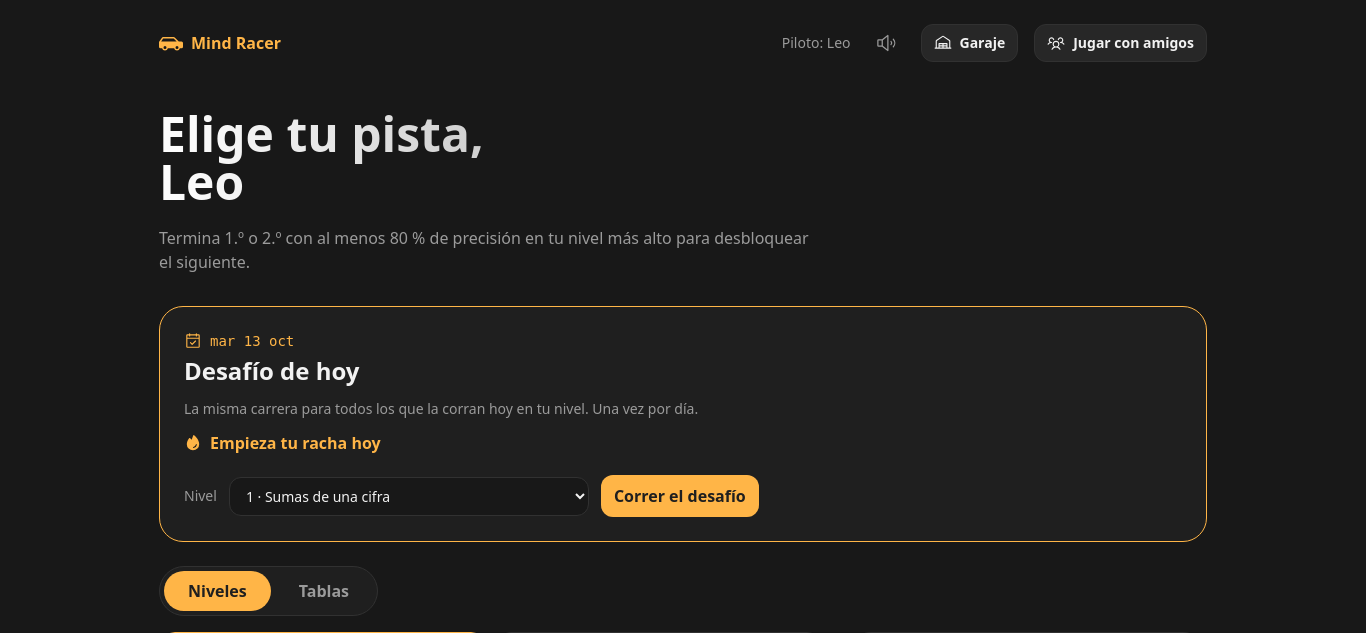
Test: aviso de desbloqueo en los resultados › el primer desafío diario anuncia lo que desbloquea (rojo por la carrera, verde por el desafío)
This screenshot has width=1366, height=633.
Click the button "Correr el desafío": (680, 496) [601,475,759,517]
Wait 2000 ms
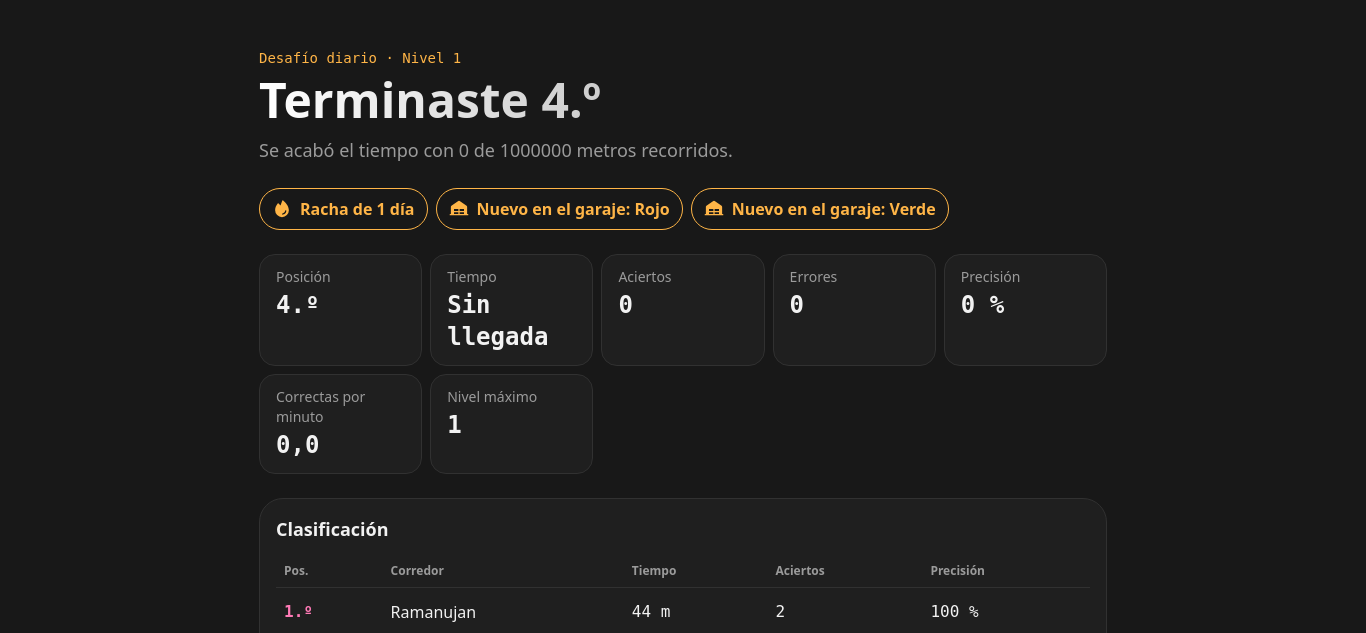
Expected: the elements "Nuevo en el garaje" read "Nuevo en el garaje: Rojo", "Nuevo en el garaje: Verde", in this order, [436,188,683,230]; [691,188,949,230]
